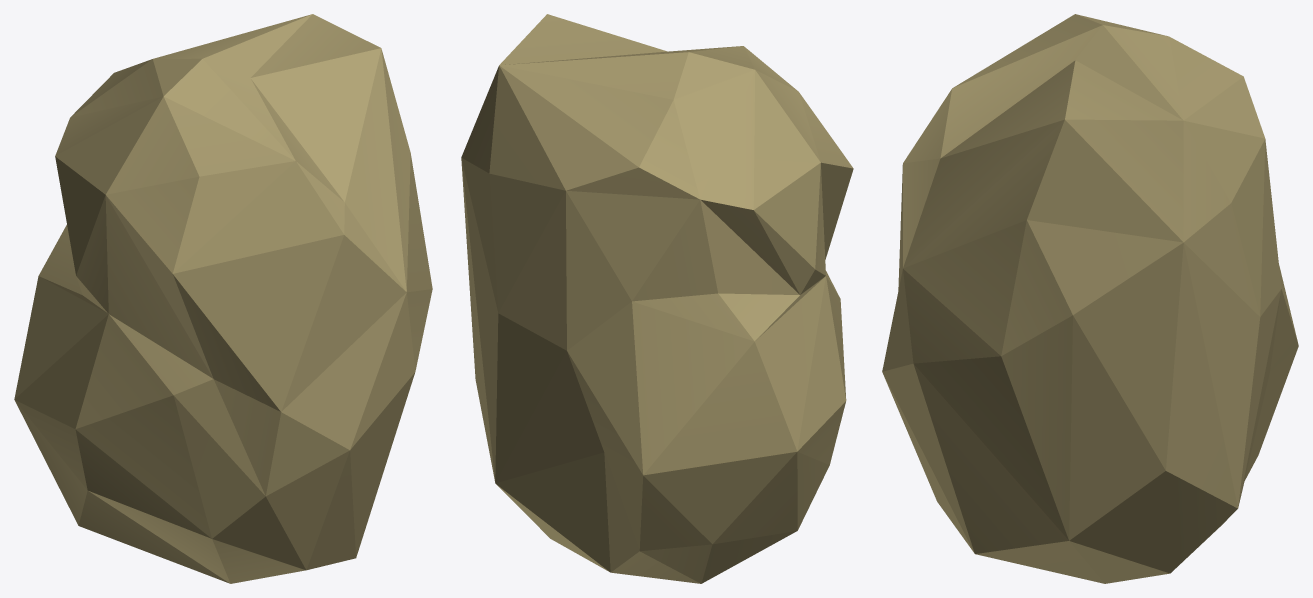
File: SM_small_rock_35.fbx
The picture shows the model from 3 angles, left to right: view 1: azimuth 30°, elevation 25°; view 2: azimuth 150°, elevation 25°; view 3: azimuth 270°, elevation 25°; orthographic projection.
Parts seen in each view (by area): view 1: small_rock_35; view 2: small_rock_35; view 3: small_rock_35.
Part boxes in pixels (x1=…): small_rock_35: x1=14, y1=14, x2=432, y2=583; small_rock_35: x1=461, y1=14, x2=853, y2=583; small_rock_35: x1=882, y1=14, x2=1298, y2=583.
Bounding box in the file's own units: 86.26 × 123 × 88.22.
